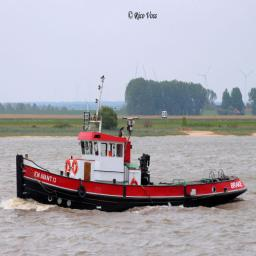tugboat: (14, 73, 250, 222)
